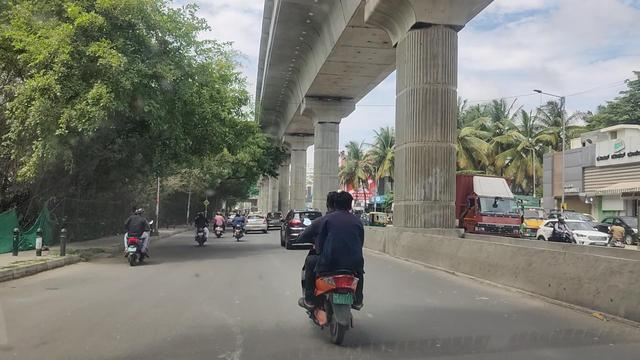LMV: (294, 184, 373, 344), (283, 205, 341, 250), (126, 203, 150, 267), (193, 208, 209, 248), (230, 208, 247, 243)
